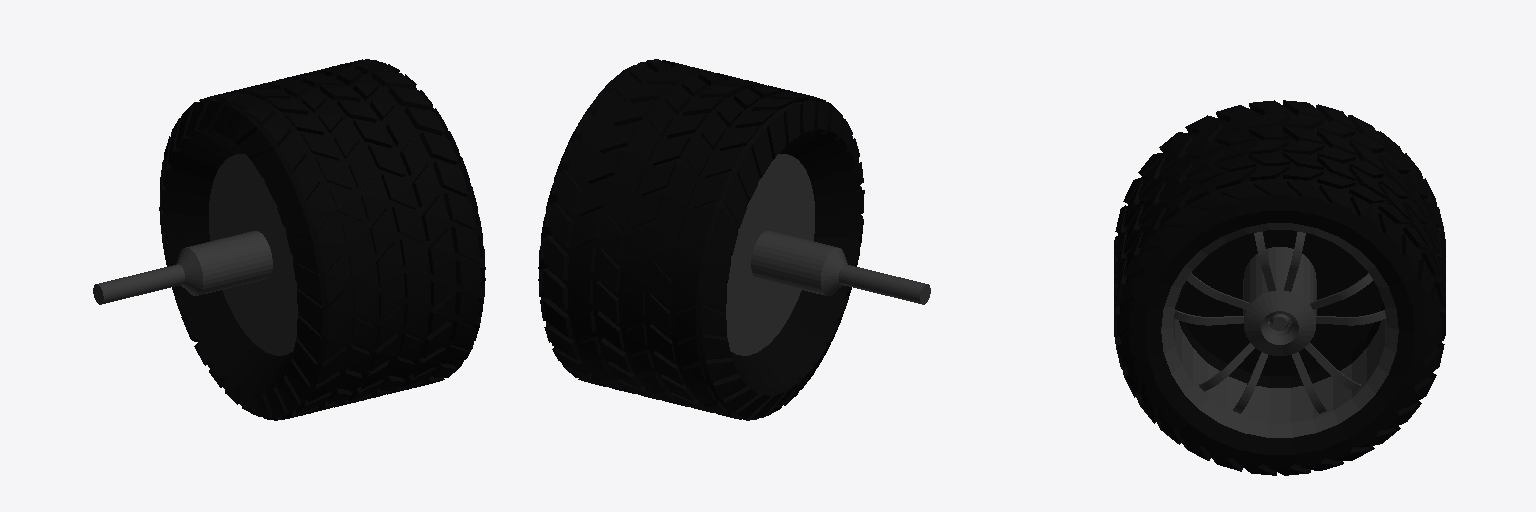
Rendered from back_wheel.obj.
The picture shows the model from 3 angles: view 1: azimuth 30°, elevation 25°; view 2: azimuth 150°, elevation 25°; view 3: azimuth 270°, elevation 25°; orthographic projection.
Parts seen in each view (by area): view 1: Cube.004_Cube.001; view 2: Cube.004_Cube.001; view 3: Cube.004_Cube.001.
Boxes of the visible parts, x1=… form: Cube.004_Cube.001: x1=93, y1=59, x2=485, y2=420; Cube.004_Cube.001: x1=538, y1=59, x2=930, y2=420; Cube.004_Cube.001: x1=1114, y1=100, x2=1445, y2=475.
Bounding box in the file's own units: 3.21 × 2.93 × 2.93.